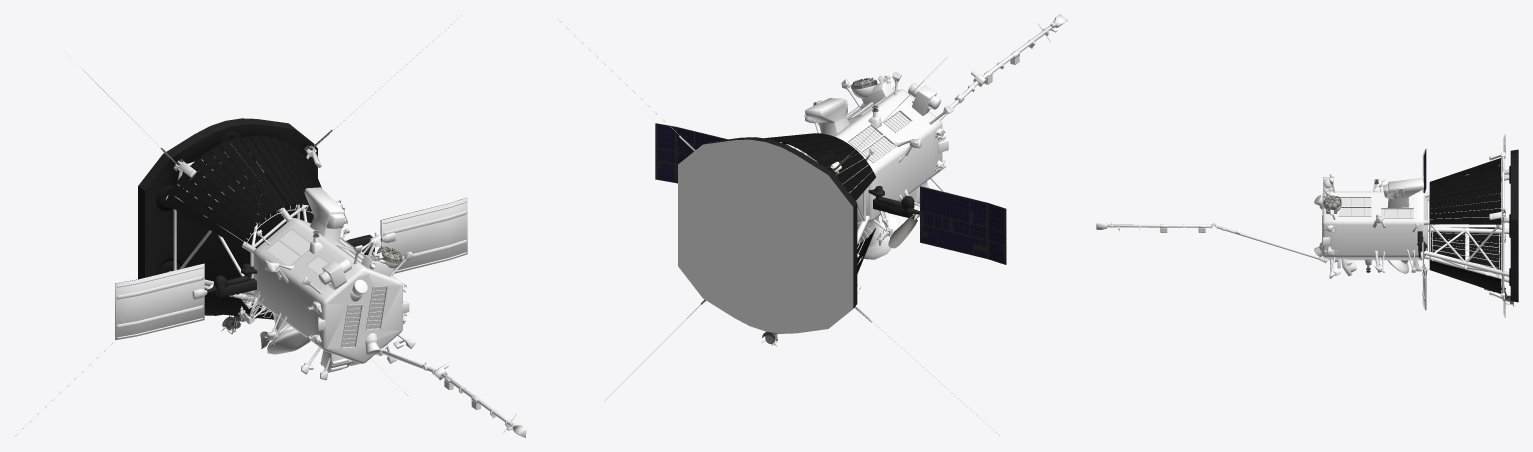
The model's file is sc_psp.glb.
3 views of the same model, side by side, from view 1: azimuth 30°, elevation 25°; view 2: azimuth 150°, elevation 25°; view 3: azimuth 270°, elevation 25° (orthographic). The views are drawn at different scales.
Parts seen in each view (by area): view 1: BUS, Instruments, CoolingSystem, solarWing_LeftBacking, solarWing_RightBacking, vents, solarArray_arms, boom, heatShield_Mounting, HGA; view 2: Instruments, BUS, CoolingSystem, vents, boom, solarArray_arms; view 3: BUS, CoolingSystem, Instruments, vents, boom, CoolingSystem_frame.
Boxes of the visible parts, <box> form: BUS: <box>165,143,415,380</box>; Instruments: <box>115,118,466,348</box>; CoolingSystem: <box>165,136,321,319</box>; solarWing_LeftBacking: <box>115,263,204,339</box>; solarWing_RightBacking: <box>381,198,467,273</box>; vents: <box>265,228,387,348</box>; solarArray_arms: <box>192,232,395,299</box>; boom: <box>377,345,526,437</box>; heatShield_Mounting: <box>156,131,242,294</box>; HGA: <box>267,331,310,354</box>; Instruments: <box>655,77,1006,346</box>; BUS: <box>788,72,953,294</box>; CoolingSystem: <box>764,133,875,273</box>; vents: <box>846,97,912,162</box>; boom: <box>939,14,1067,120</box>; solarArray_arms: <box>868,186,919,217</box>; BUS: <box>1314,151,1509,300</box>; CoolingSystem: <box>1429,158,1501,293</box>; Instruments: <box>1323,134,1518,317</box>; vents: <box>1322,196,1414,242</box>; boom: <box>1096,222,1327,263</box>; CoolingSystem_frame: <box>1429,165,1511,304</box>.
Size of the model in its own units: 1.16 by 1.06 by 1.33.
8 materials, 2 textured.
